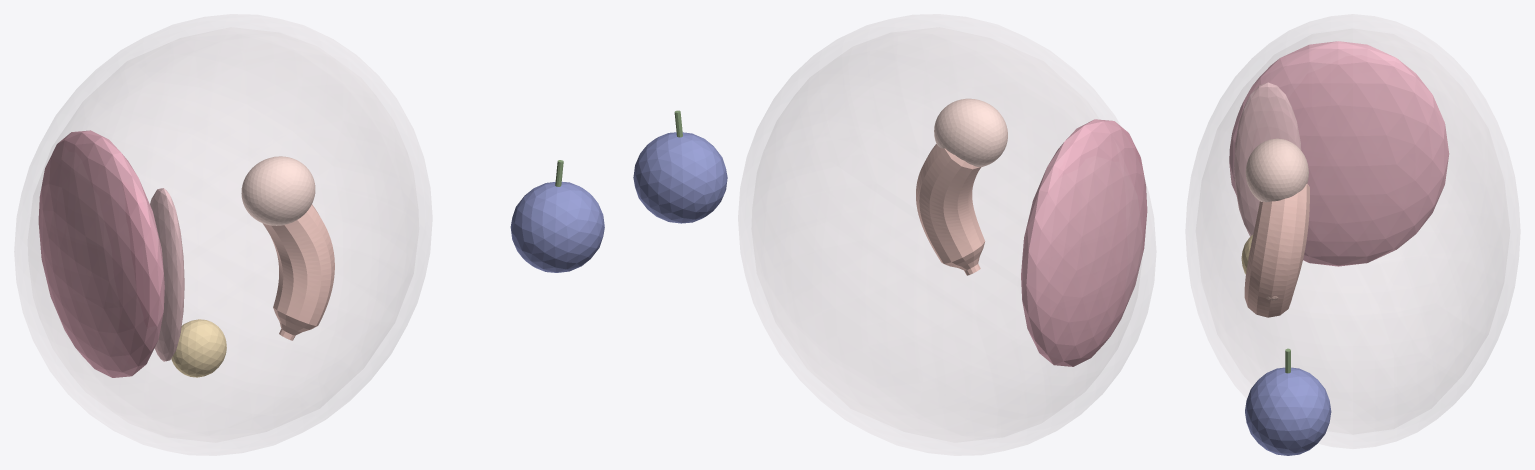
File: hafta_07.glb
3 views of the same model, side by side, from view 1: azimuth 30°, elevation 25°; view 2: azimuth 150°, elevation 25°; view 3: azimuth 270°, elevation 25° (orthographic). The views are drawn at different scales.
Visible parts, largest first — view 1: Gebelik_kesesi_dis_zar_6, Plasenta_gelisen_doku_8, Meyve_Yaban mersini_11, Kivrila_erkenci_embriyo_govdesi_1, Gelisen_bas_bolgesi_2, Plasenta_yumusak_yuzey_9, Sari_kese_10; view 2: Gebelik_kesesi_dis_zar_6, Plasenta_gelisen_doku_8, Meyve_Yaban mersini_11, Kivrila_erkenci_embriyo_govdesi_1, Gelisen_bas_bolgesi_2; view 3: Gebelik_kesesi_dis_zar_6, Plasenta_gelisen_doku_8, Kivrila_erkenci_embriyo_govdesi_1, Meyve_Yaban mersini_11, Plasenta_yumusak_yuzey_9, Gelisen_bas_bolgesi_2.
Part boxes in pixels (bbox=[...]): Gebelik_kesesi_dis_zar_6: bbox=[14, 14, 431, 455]; Plasenta_gelisen_doku_8: bbox=[38, 130, 164, 377]; Meyve_Yaban mersini_11: bbox=[510, 181, 604, 272]; Kivrila_erkenci_embriyo_govdesi_1: bbox=[262, 204, 334, 340]; Gelisen_bas_bolgesi_2: bbox=[241, 156, 315, 225]; Plasenta_yumusak_yuzey_9: bbox=[150, 188, 184, 361]; Sari_kese_10: bbox=[171, 319, 226, 377]; Gebelik_kesesi_dis_zar_6: bbox=[738, 14, 1155, 455]; Plasenta_gelisen_doku_8: bbox=[1021, 119, 1147, 366]; Meyve_Yaban mersini_11: bbox=[633, 132, 727, 223]; Kivrila_erkenci_embriyo_govdesi_1: bbox=[916, 144, 985, 275]; Gelisen_bas_bolgesi_2: bbox=[934, 98, 1007, 166]; Gebelik_kesesi_dis_zar_6: bbox=[1186, 14, 1519, 448]; Plasenta_gelisen_doku_8: bbox=[1229, 41, 1449, 266]; Kivrila_erkenci_embriyo_govdesi_1: bbox=[1244, 183, 1309, 317]; Meyve_Yaban mersini_11: bbox=[1245, 367, 1331, 455]; Plasenta_yumusak_yuzey_9: bbox=[1234, 82, 1301, 236]; Gelisen_bas_bolgesi_2: bbox=[1245, 138, 1308, 202].
Size of the model in its own units: 10.91 by 8.1 by 6.2.
